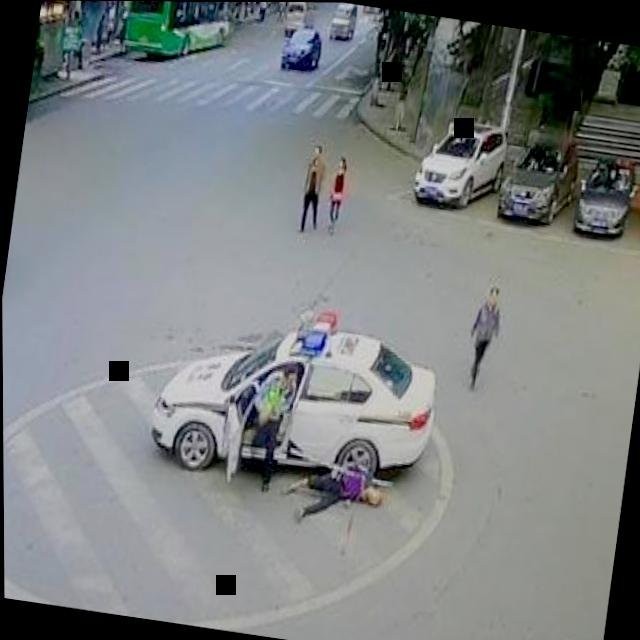Fall-Detected: (284, 441, 400, 542)
